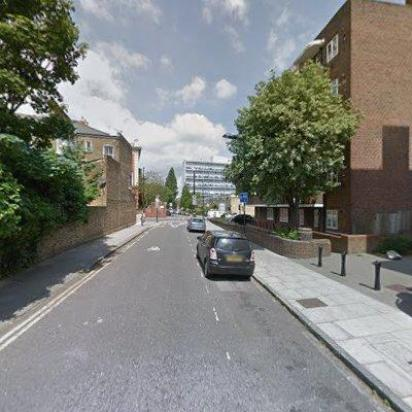stationary-car-offstreet: (225, 213, 254, 225)
stationary-car-onstreet: (196, 232, 256, 280), (186, 216, 206, 232)
